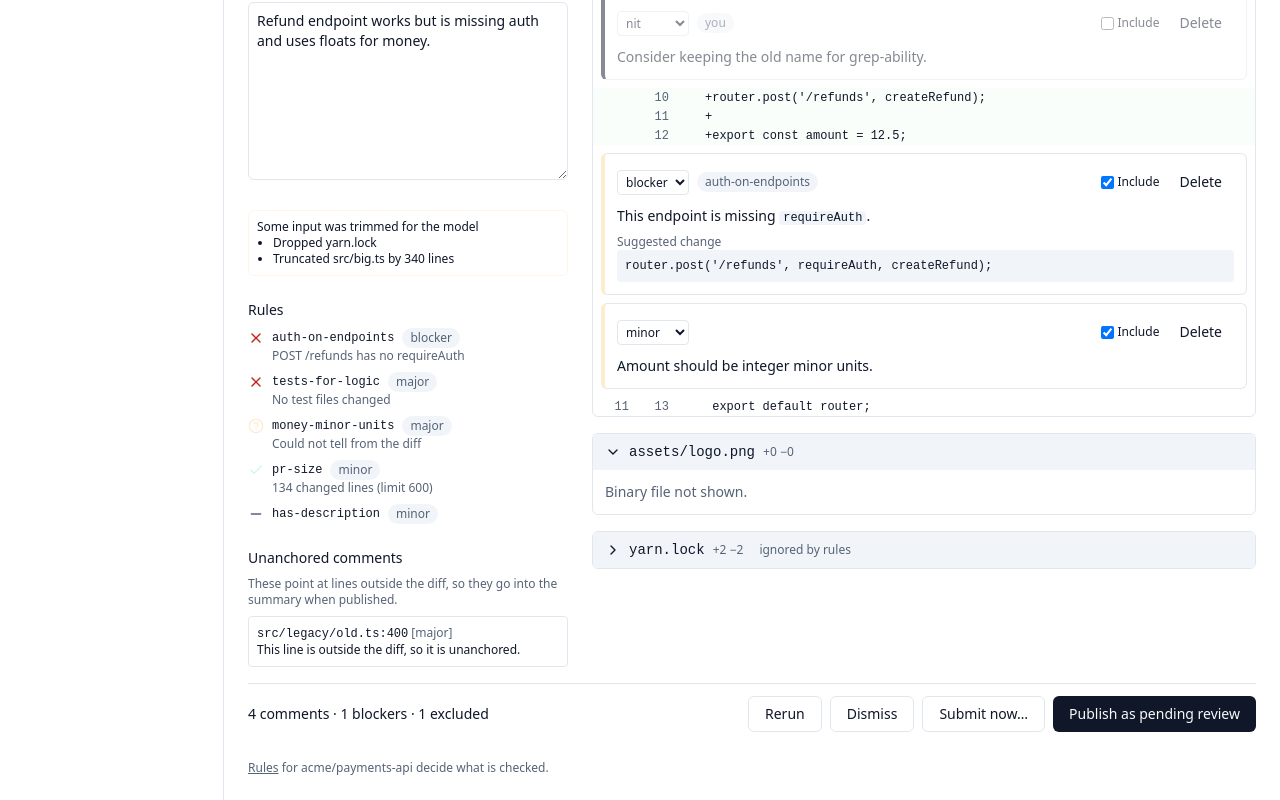
Scenario: Review detail › shows binary placeholder and collapses files without hunks
(page scrolled)
Expected: the text "Binary file not shown." is shown, [605,482,747,501]
Expected: the text "ignored by rules" is shown, [751,540,859,560]
Click the button "yarn.lock +2 −2 ignored by rules" at (667, 550), box [593,532,1255,568]
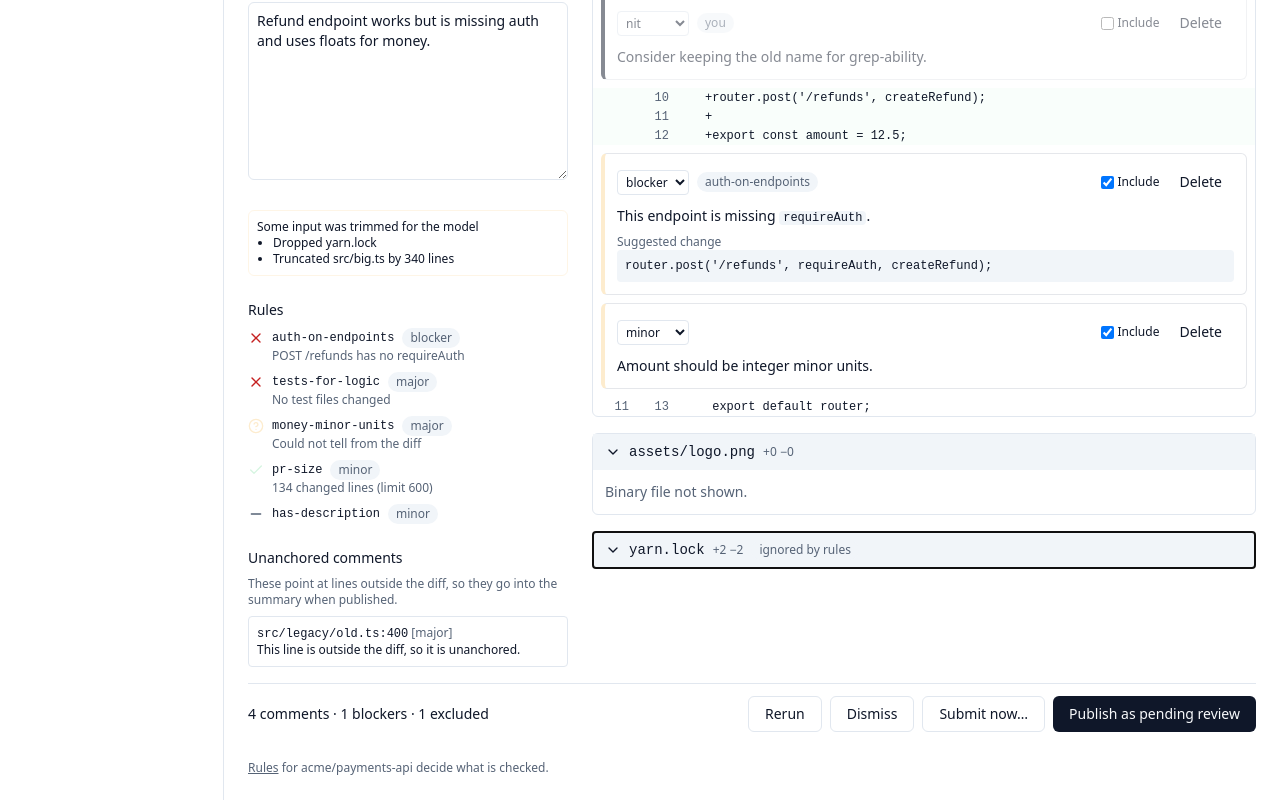
Expected: the button "yarn.lock +2 −2 ignored by rules" is expanded, [593,532,1255,568]
